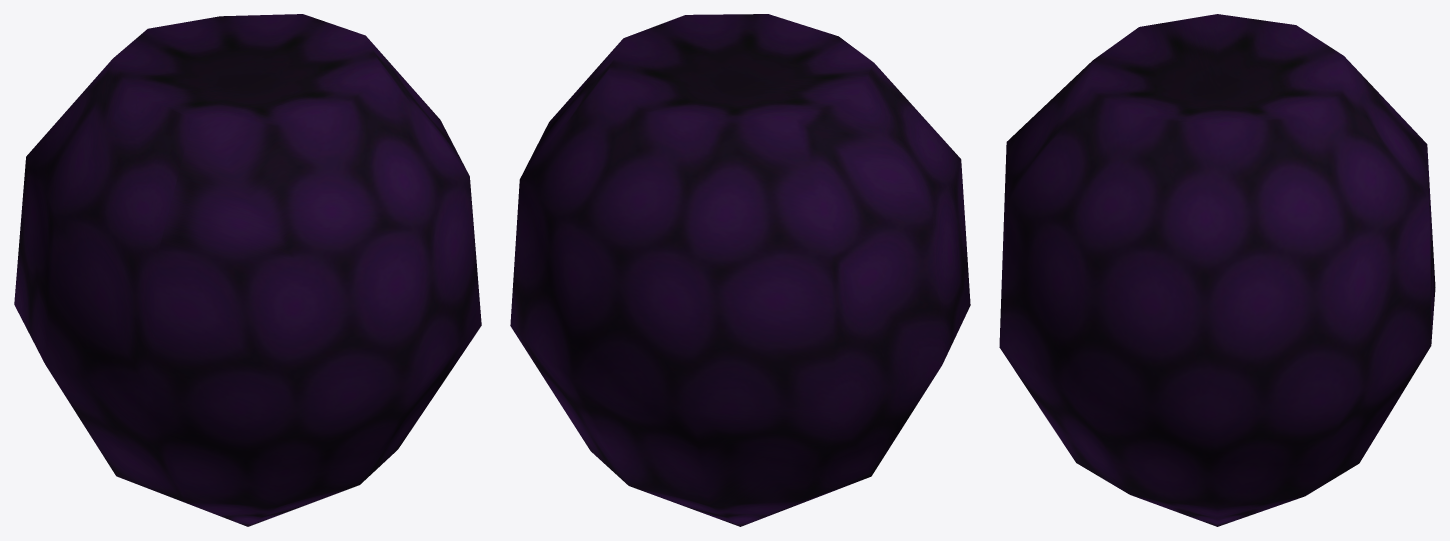
Rendered from blackberry.fbx.
The picture shows the model from 3 angles, left to right: view 1: azimuth 30°, elevation 25°; view 2: azimuth 150°, elevation 25°; view 3: azimuth 270°, elevation 25°; orthographic projection.
Parts seen in each view (by area): view 1: blackberry; view 2: blackberry; view 3: blackberry.
Part boxes in pixels (x1,y1,x2,y2): blackberry: (14,14,481,526); blackberry: (510,14,970,526); blackberry: (999,14,1435,526).
Bounding box in the file's own units: 184 × 201 × 174.
Materials: 1 (1 with a texture image).
